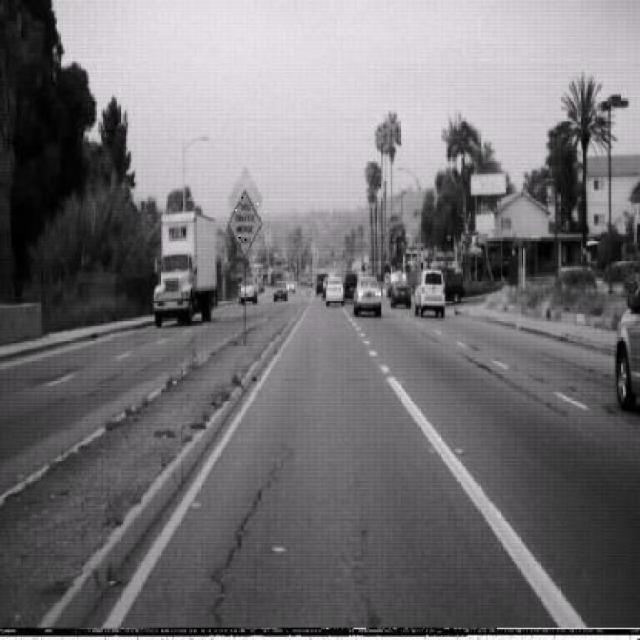thruMergeRight: (228, 189, 262, 257)
